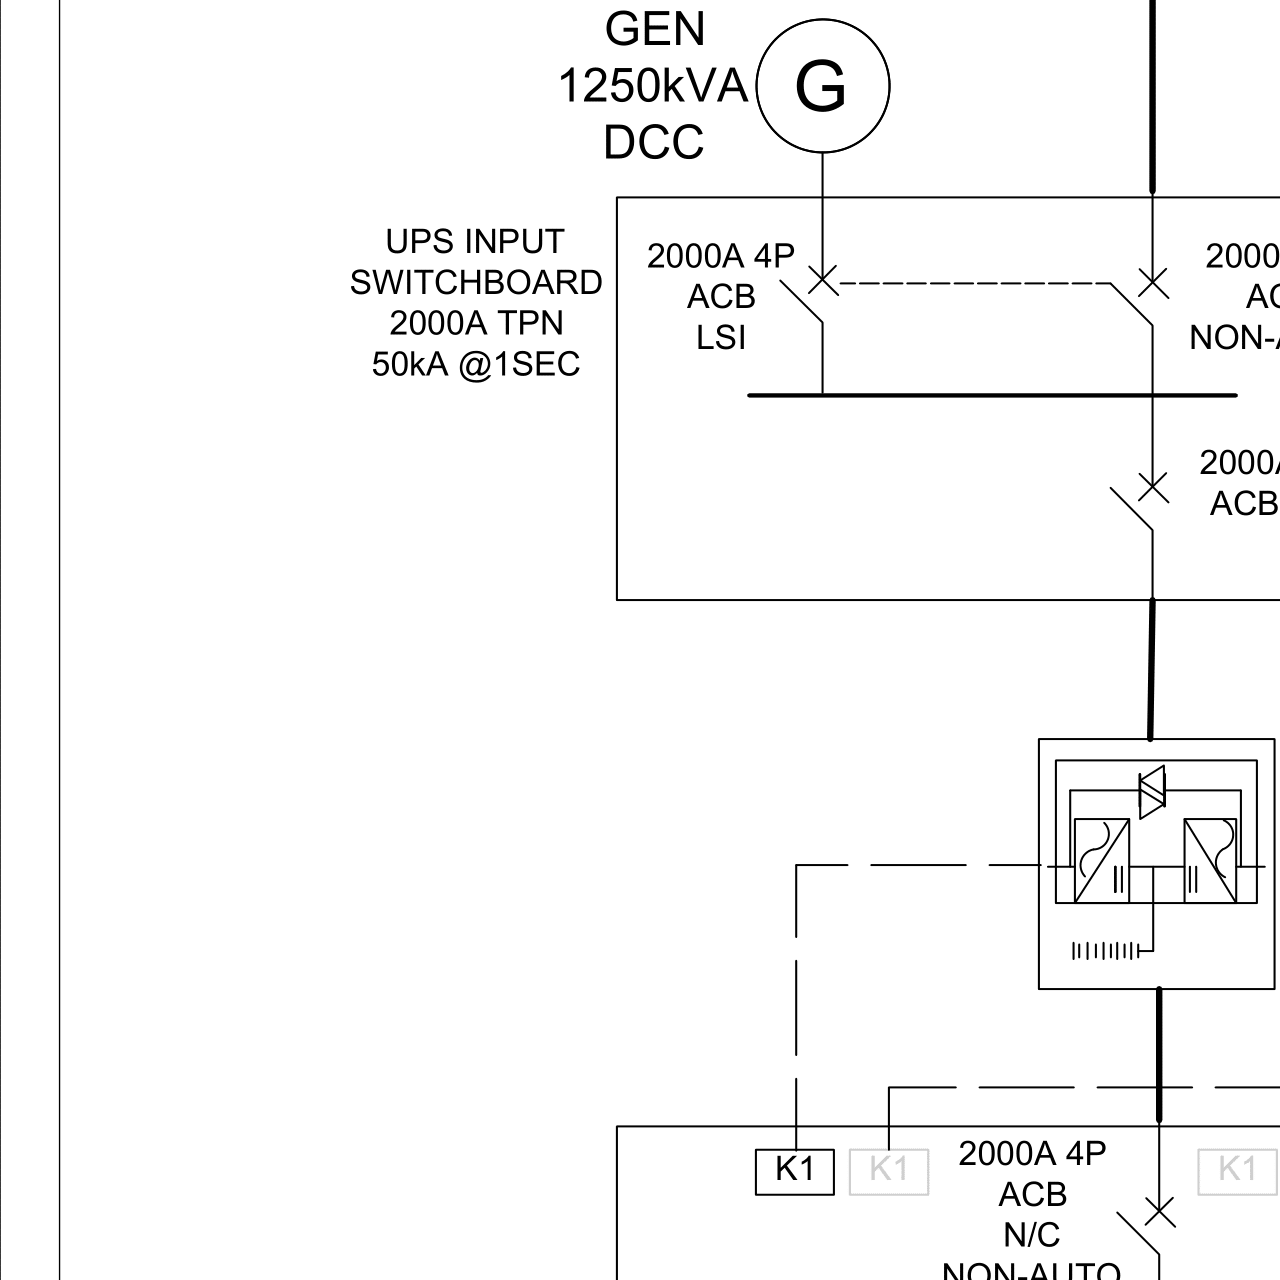Generator: (750, 9, 910, 163)
UPS: (1026, 727, 1280, 1002)
